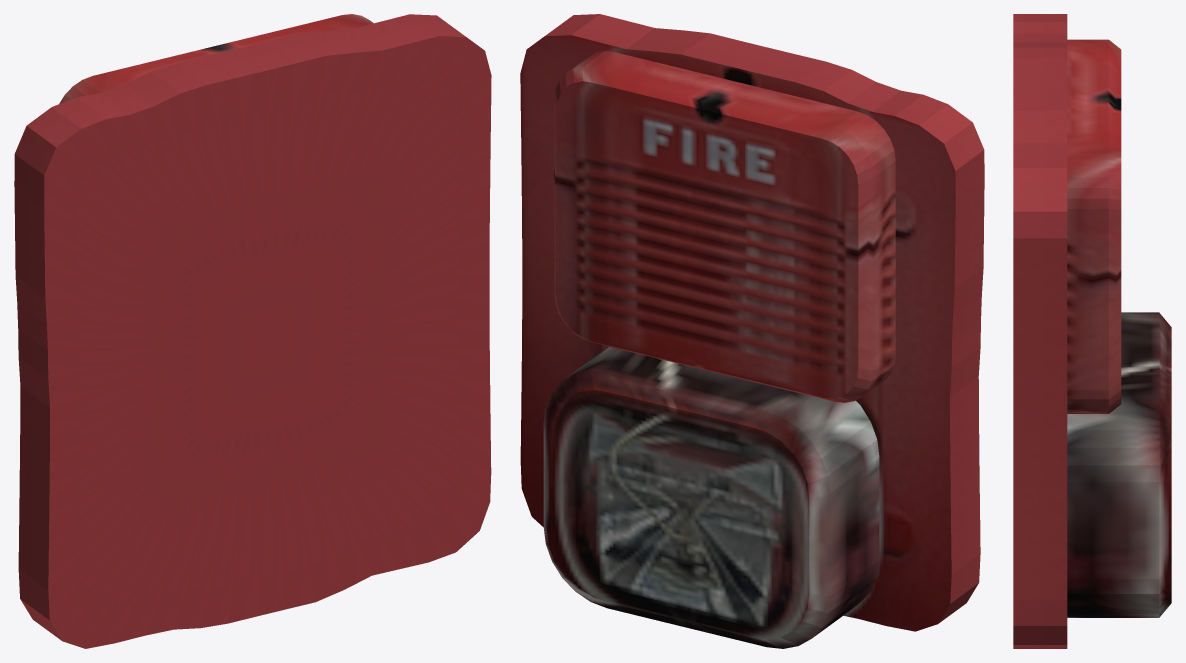
The model's file is systemsensor_spectralert_classic_hornstrobe.obj.
The picture shows the model from 3 angles, left to right: view 1: azimuth 30°, elevation 25°; view 2: azimuth 150°, elevation 25°; view 3: azimuth 270°, elevation 25°; orthographic projection. The views are drawn at different scales.
Visible parts, largest first — view 1: spectralert_classic_hornstrobe; view 2: spectralert_classic_hornstrobe; view 3: spectralert_classic_hornstrobe.
Boxes of the visible parts, x1,y1,x2,y2 form: spectralert_classic_hornstrobe: (14, 14, 491, 648); spectralert_classic_hornstrobe: (520, 14, 984, 648); spectralert_classic_hornstrobe: (1013, 14, 1171, 648).
Size of the model in its own units: 0.8151 by 0.9469 by 0.275.
